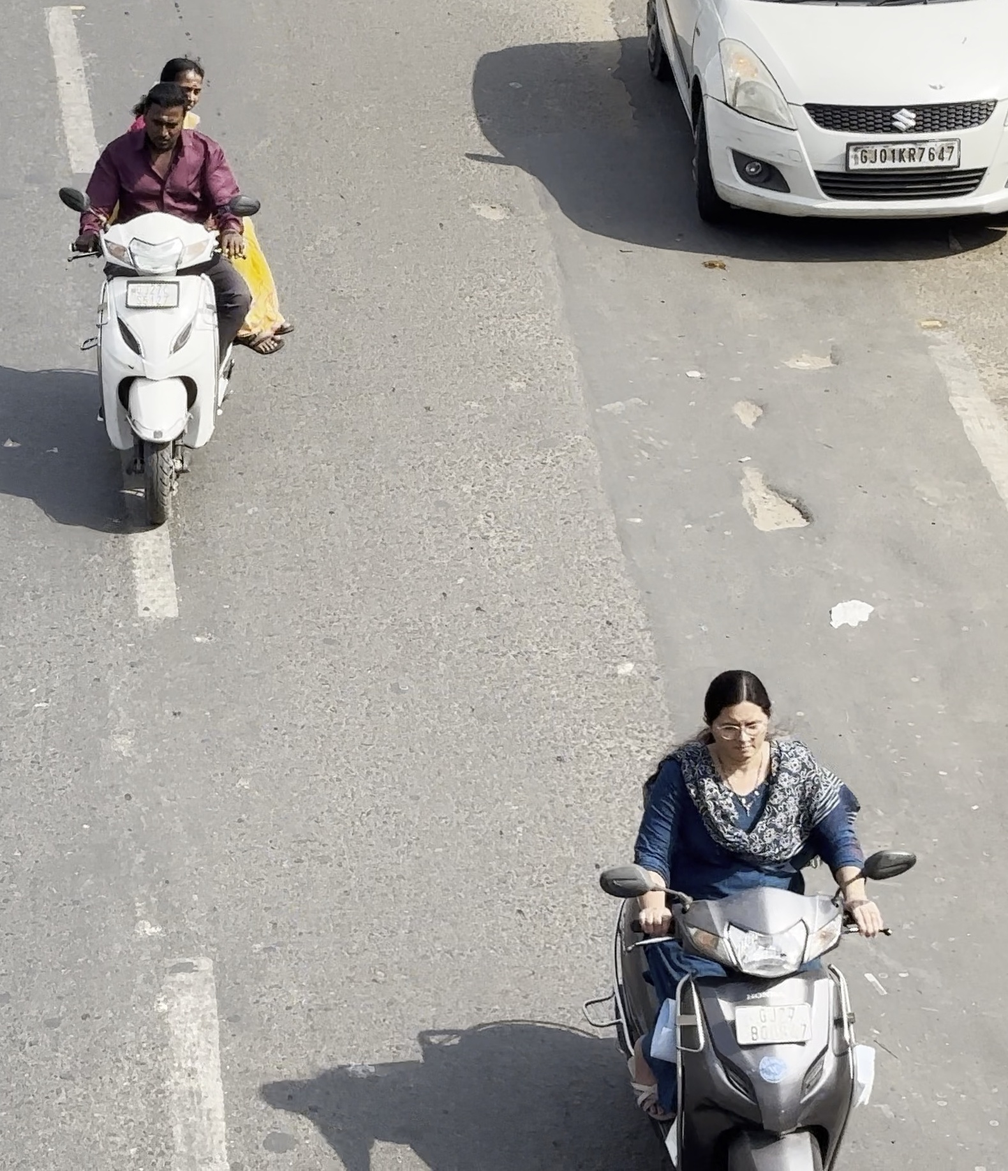BikeWithRider: (559, 627, 945, 1171), (38, 46, 313, 533)
NoHelmet: (686, 666, 790, 772), (127, 81, 198, 163), (163, 46, 226, 117)
